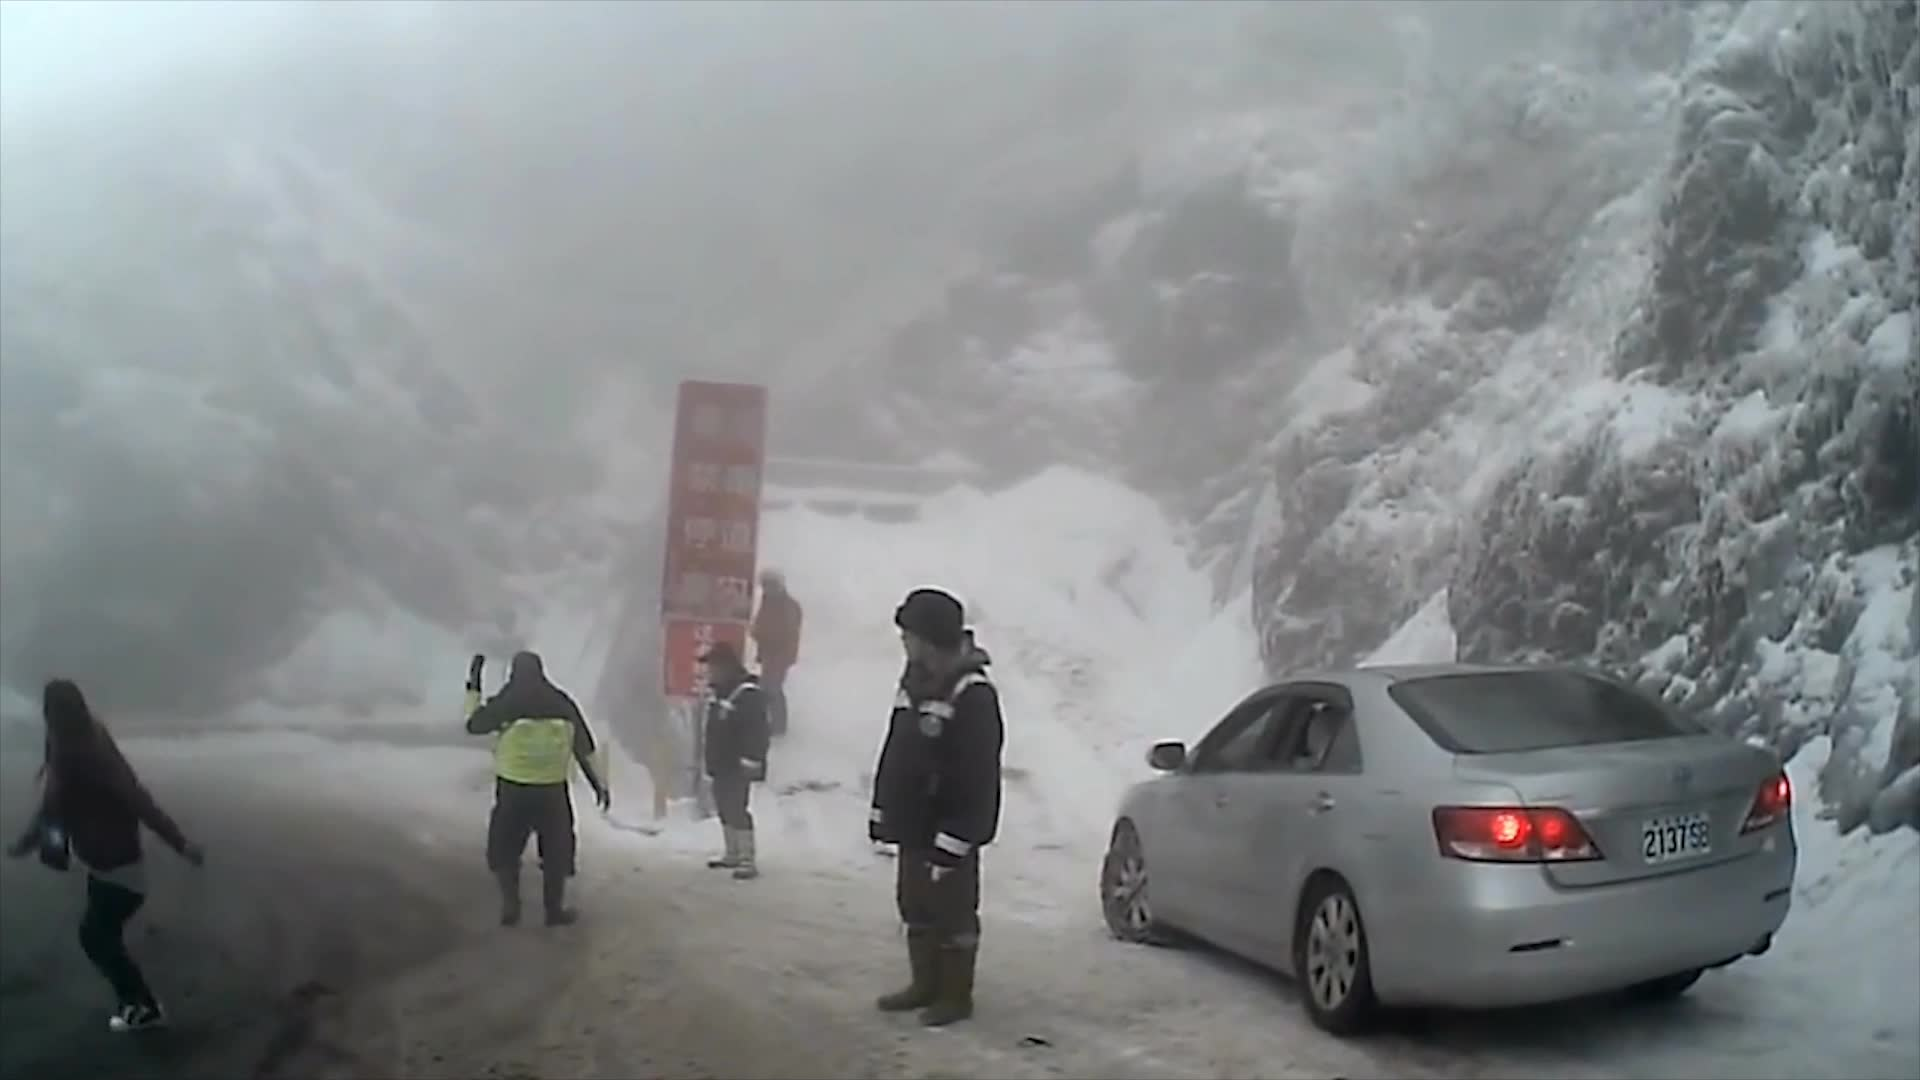pedestrian: (9, 679, 195, 1037), (863, 591, 1011, 1031), (439, 659, 602, 937), (694, 643, 776, 882), (743, 565, 810, 744)
vehicle: (1099, 660, 1796, 1034)
